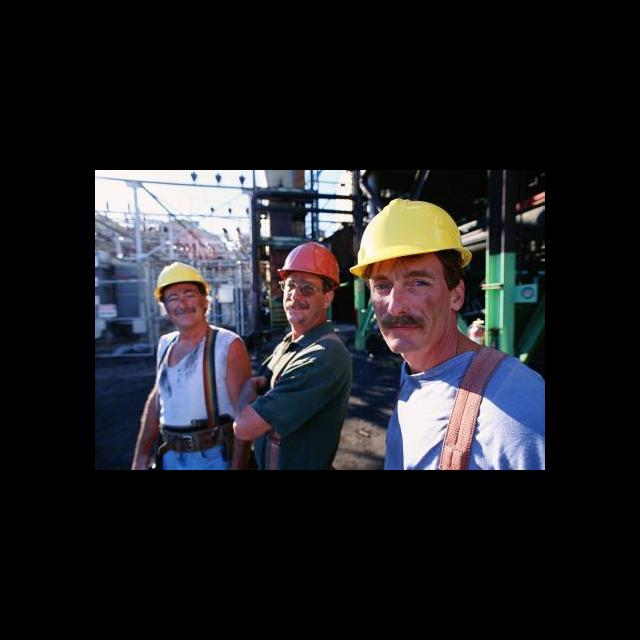Hardhat: (346, 196, 473, 270), (277, 241, 342, 289), (152, 261, 209, 296)
NO-Mask: (375, 311, 450, 354), (280, 300, 322, 324), (168, 306, 205, 326)
NO-Safety Vest: (387, 354, 545, 470), (252, 336, 351, 470), (156, 328, 234, 428)
Person: (349, 195, 545, 470), (235, 241, 353, 470), (127, 261, 254, 470)
